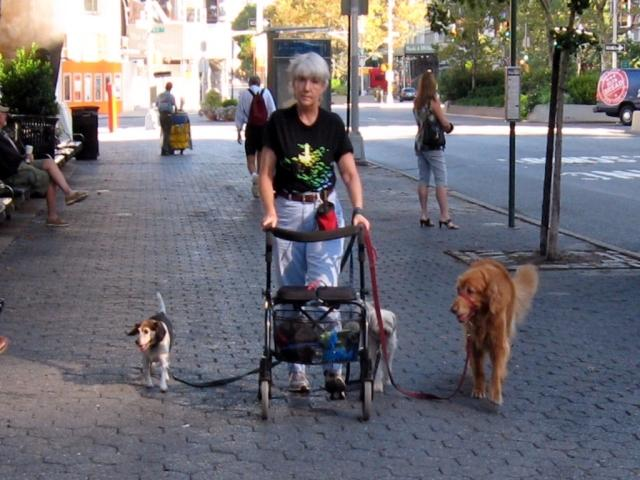Dog: (450, 258, 540, 407), (123, 291, 170, 391), (351, 291, 395, 392)
